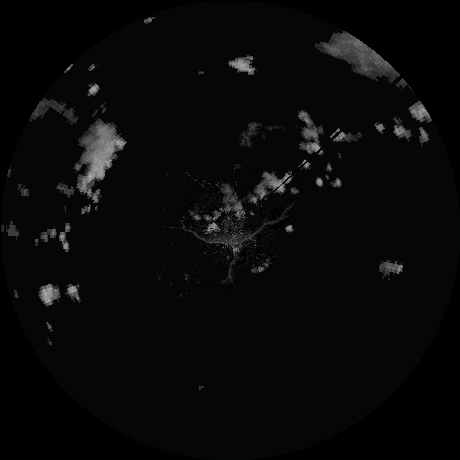frontgust: (189, 217, 285, 245)
